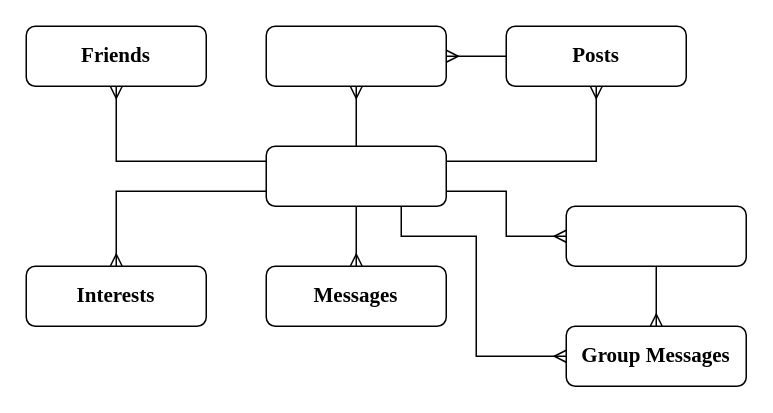
The diagram is 773 pixels wide and 413 high, and some of its shapes have lost their labels. Here are the shapes that lost their labels. From the top down, the centre of each, then its label:
At [355,55]: "Comments".
At [355,175]: "Users".
At [655,235]: "Groups".
